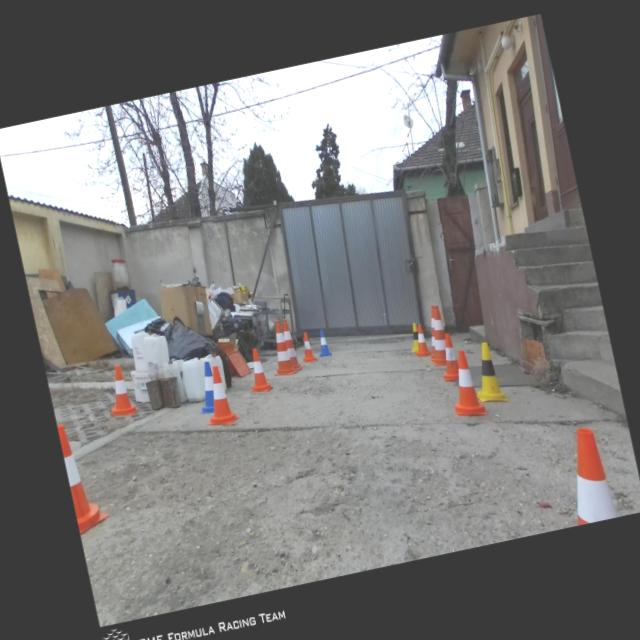blue_cone: (190, 360, 220, 416), (313, 328, 332, 358)
large_orange_cone: (262, 319, 298, 378), (421, 303, 452, 366), (418, 304, 444, 361), (280, 318, 304, 372)
orange_cone: (57, 418, 112, 535), (558, 424, 616, 524), (443, 346, 487, 421), (196, 363, 240, 428), (101, 362, 139, 418), (241, 346, 273, 394), (434, 330, 461, 382), (410, 321, 431, 357), (296, 330, 316, 363)
yellow_cone: (466, 338, 508, 408), (406, 321, 422, 353)
